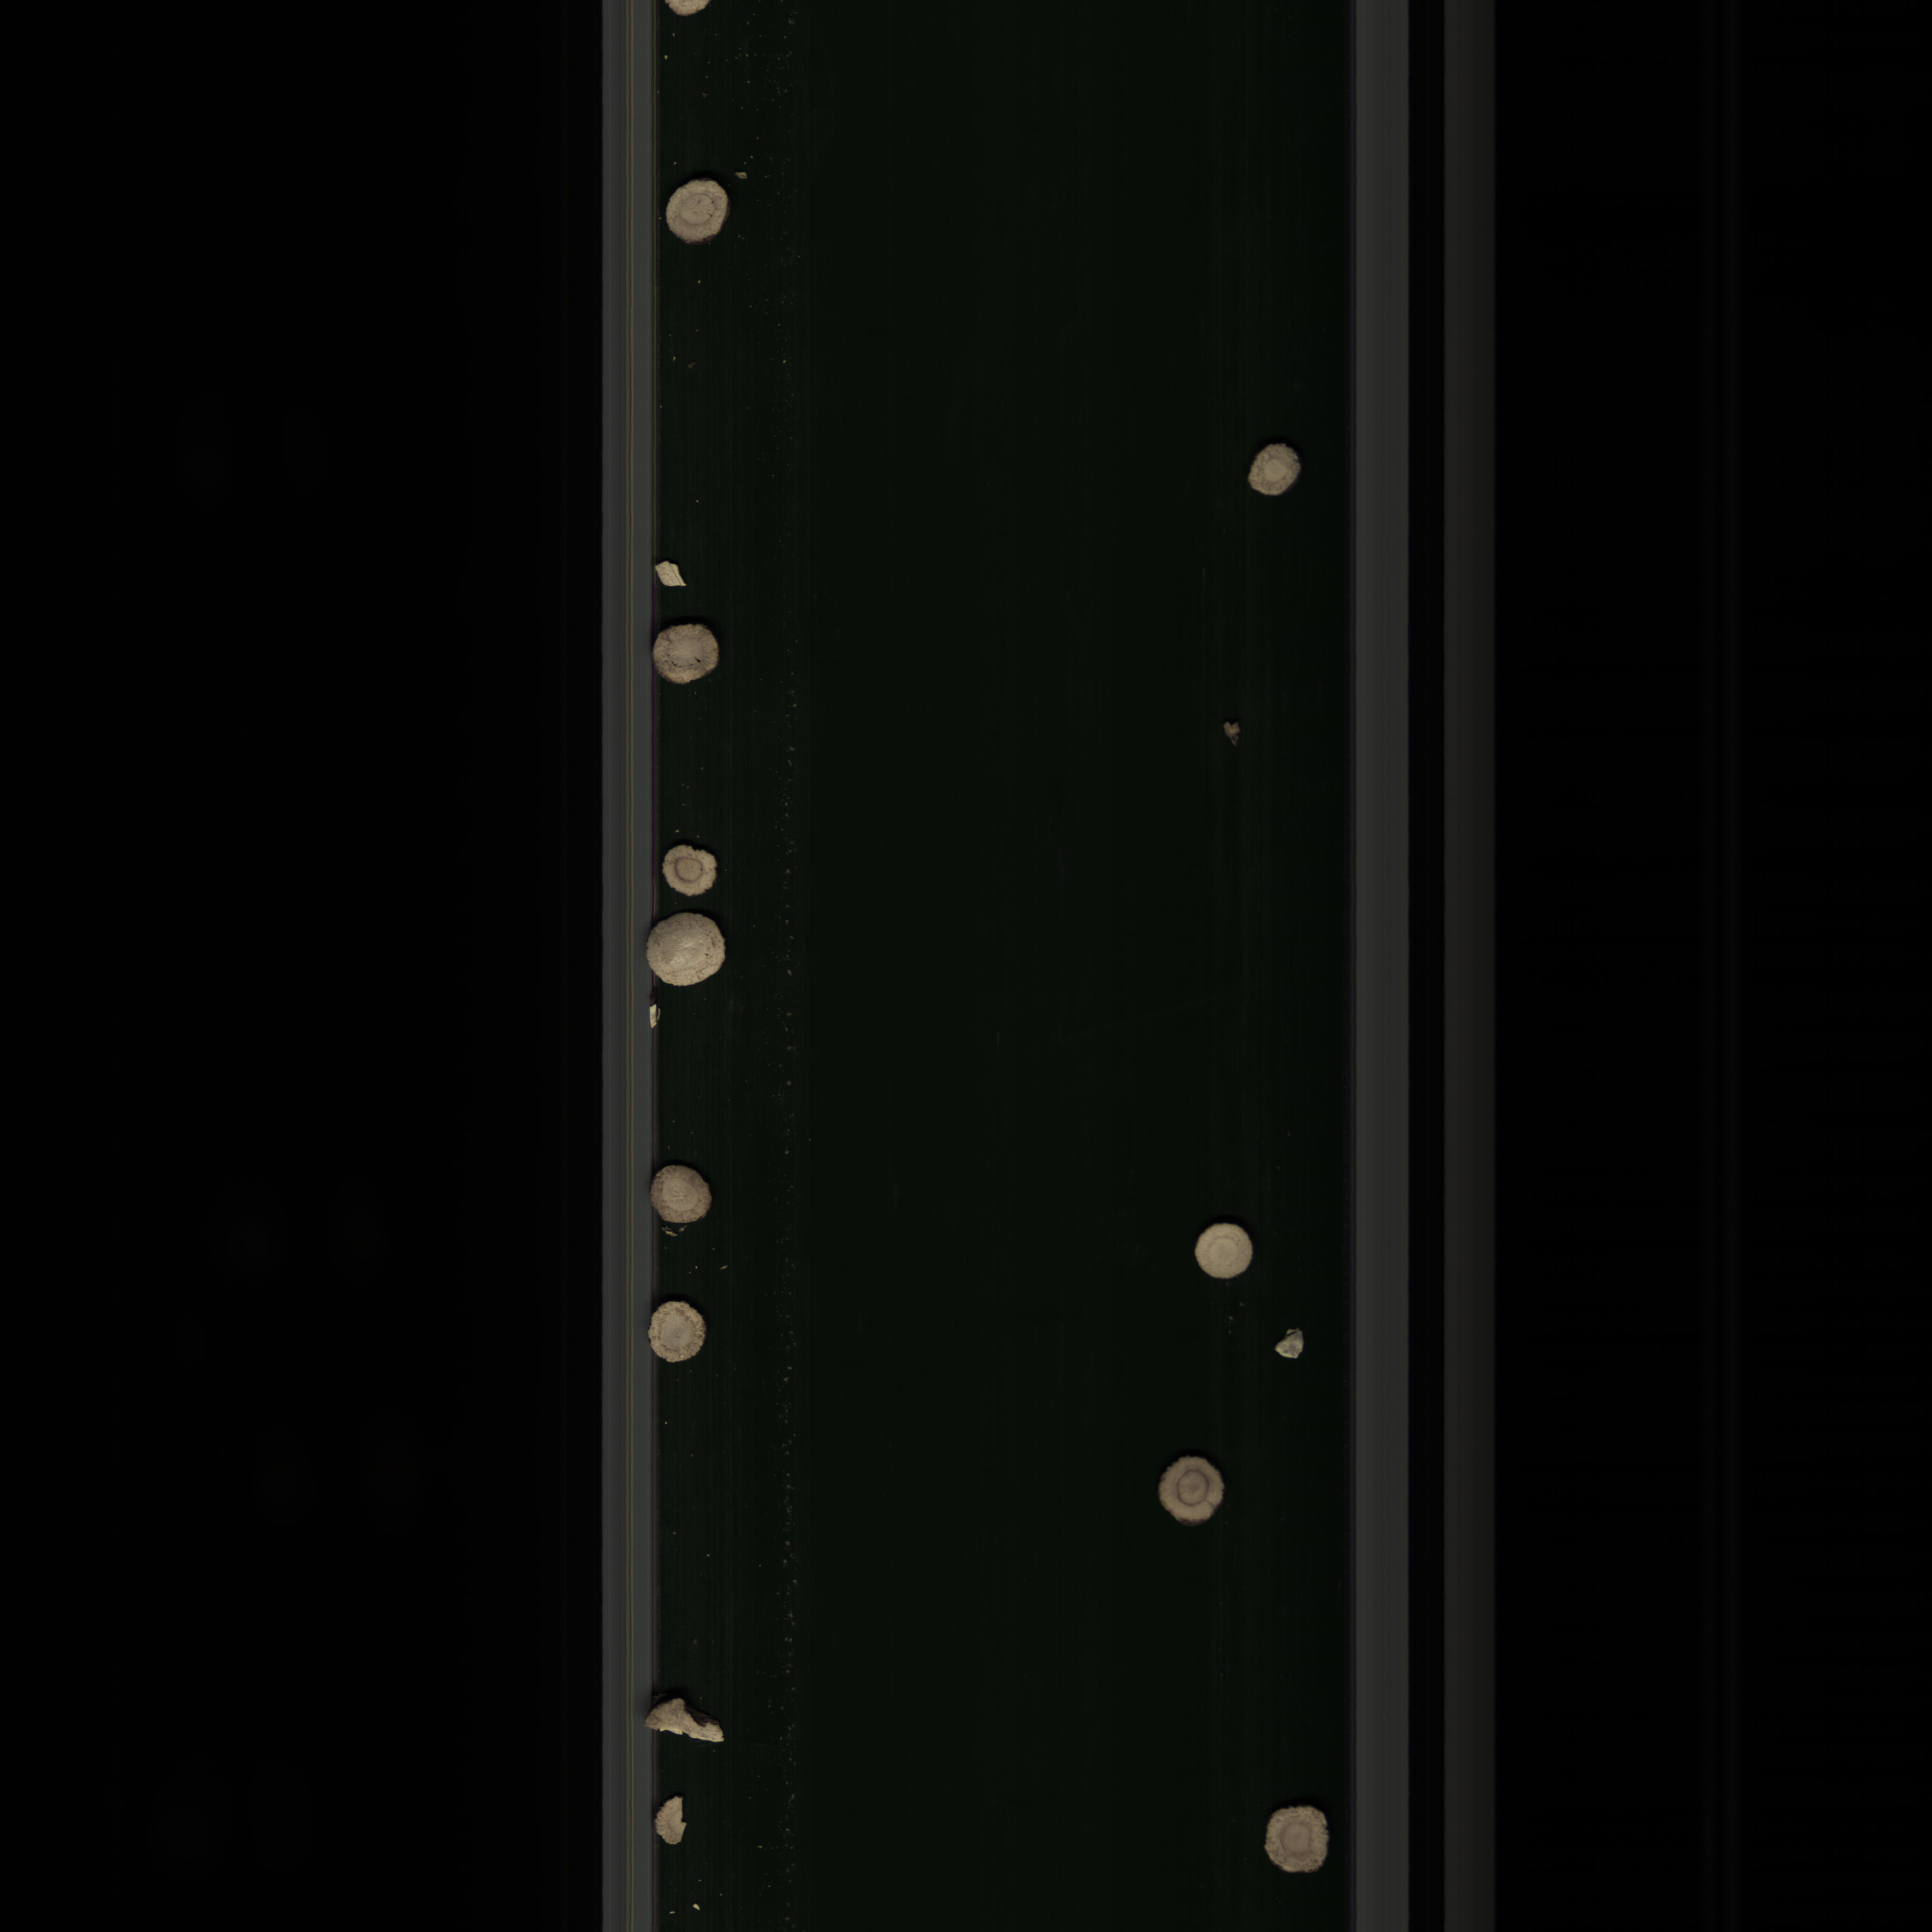debris: (640, 1693, 740, 1748), (646, 1783, 699, 1852), (1269, 1318, 1311, 1368), (646, 554, 692, 593)
moldy: (660, 840, 722, 899)
